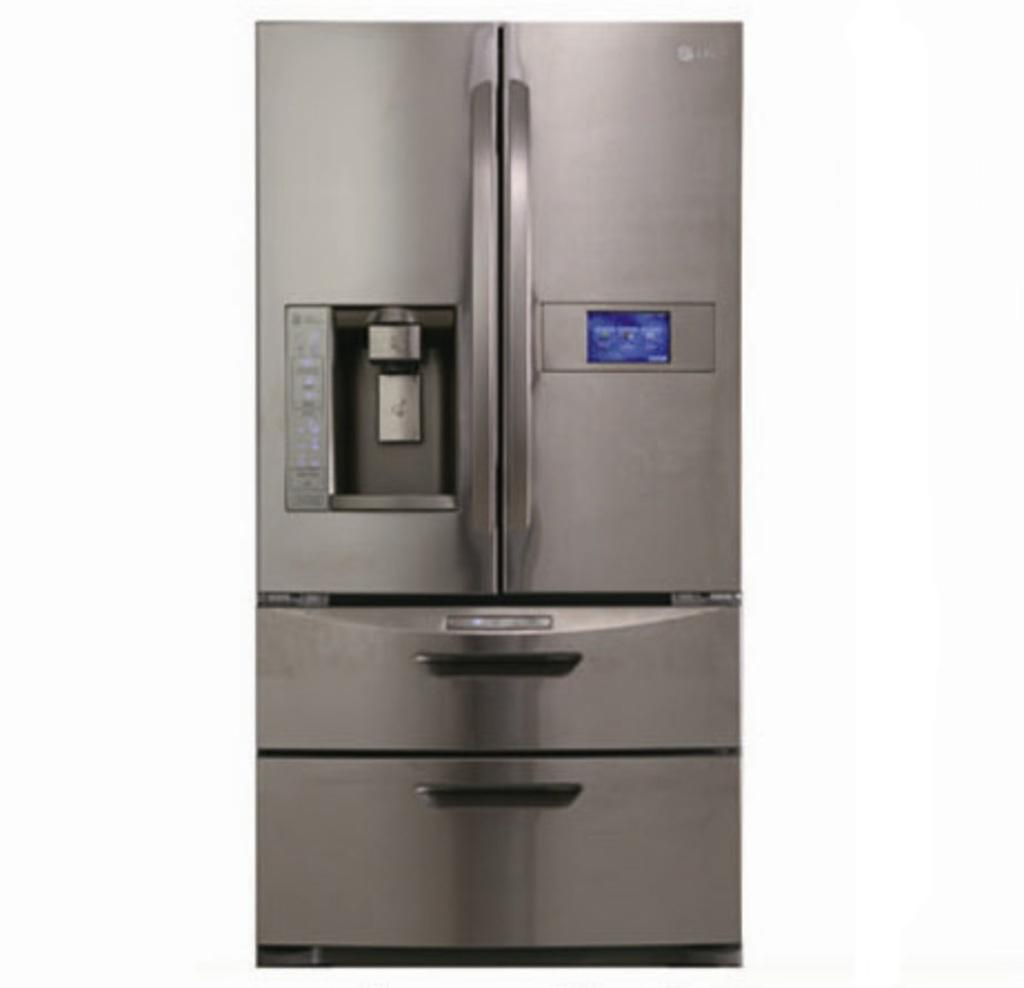handle: (459, 83, 499, 562), (504, 80, 534, 546), (417, 762, 583, 825), (408, 636, 583, 690)
